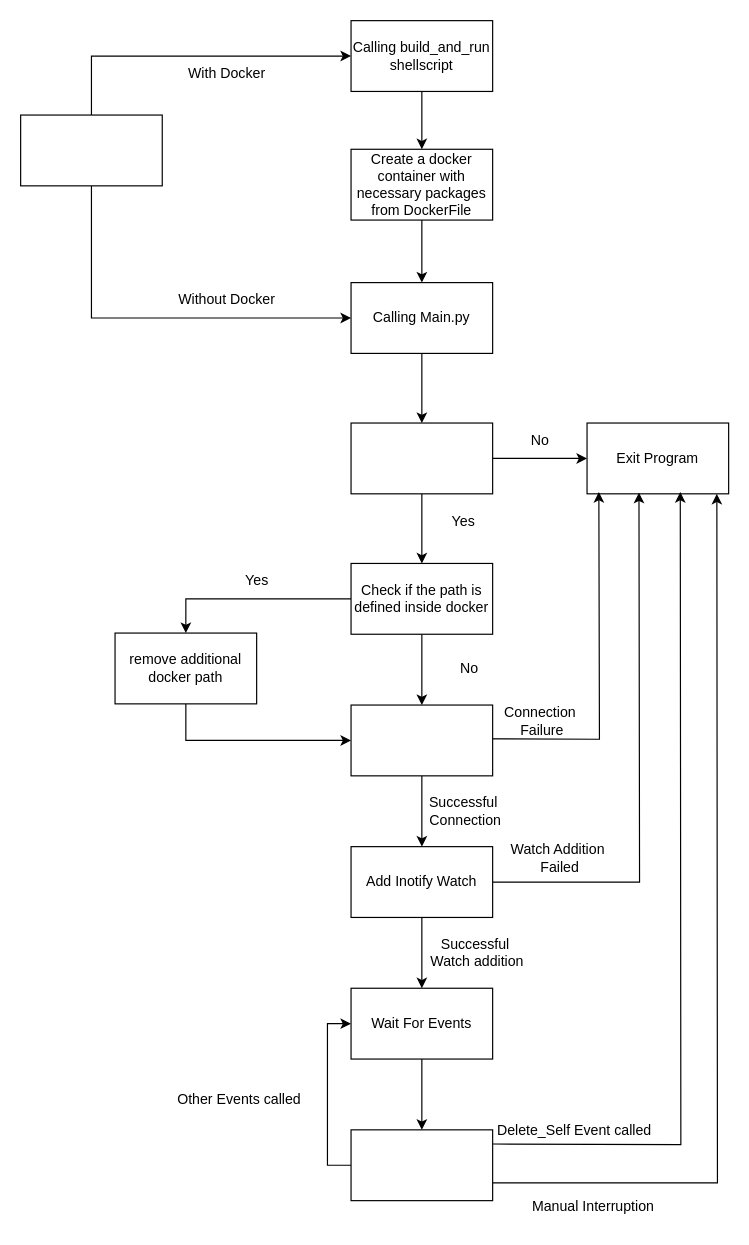
Image size: 749x1245. Some labels were removed from this diagram. Each missing label, with the box of its shape:
Check if Command Line Arguments are present?: (350, 422, 493, 494)
Initiate Mqtt Connection: (350, 704, 493, 776)
On Event publish event type, timestamp are published: (350, 1129, 493, 1201)
Start Program: (19, 114, 162, 186)
